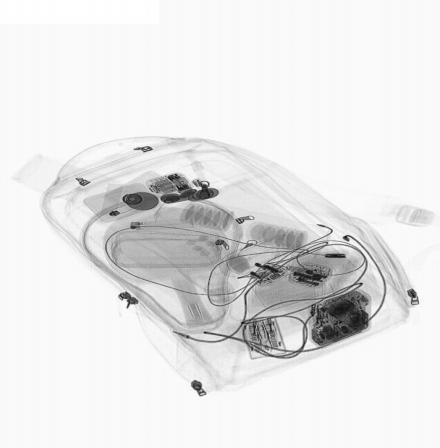Lighter: (129, 218, 196, 232)
